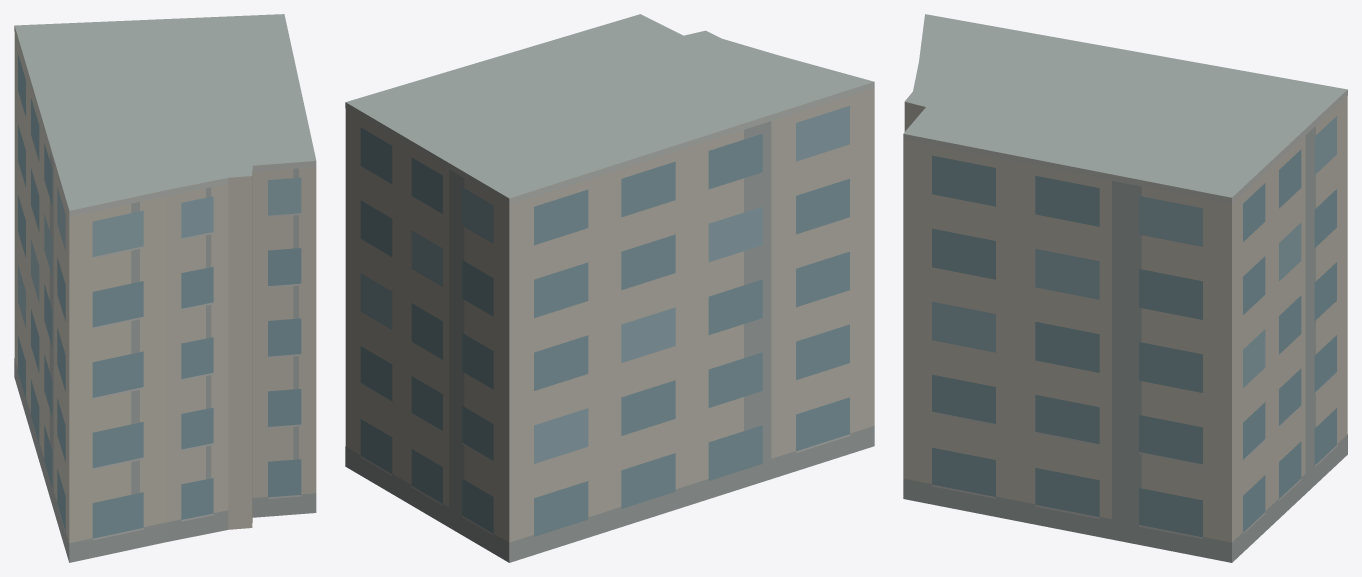
The model's file is survey-upis-32526542.glb.
3 renders of one model, left to right at view 1: azimuth 30°, elevation 25°; view 2: azimuth 150°, elevation 25°; view 3: azimuth 270°, elevation 25°, orthographic. The views are drawn at different scales.
Parts seen in each view (by area): view 1: survey-upis-32526542.tmp; view 2: survey-upis-32526542.tmp; view 3: survey-upis-32526542.tmp.
Boxes of the visible parts, bbox=[...] form: survey-upis-32526542.tmp: bbox=[14, 14, 316, 562]; survey-upis-32526542.tmp: bbox=[345, 14, 874, 562]; survey-upis-32526542.tmp: bbox=[903, 14, 1347, 562].
Size of the model in its own units: 15.23 by 14.1 by 15.57.
